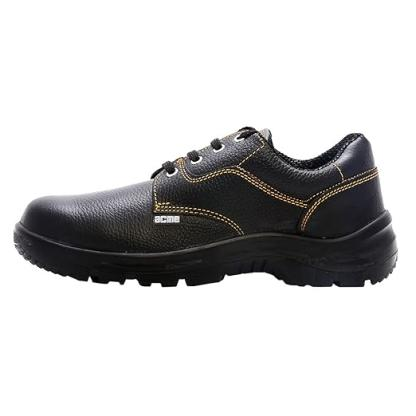bota: (9, 121, 401, 290)
